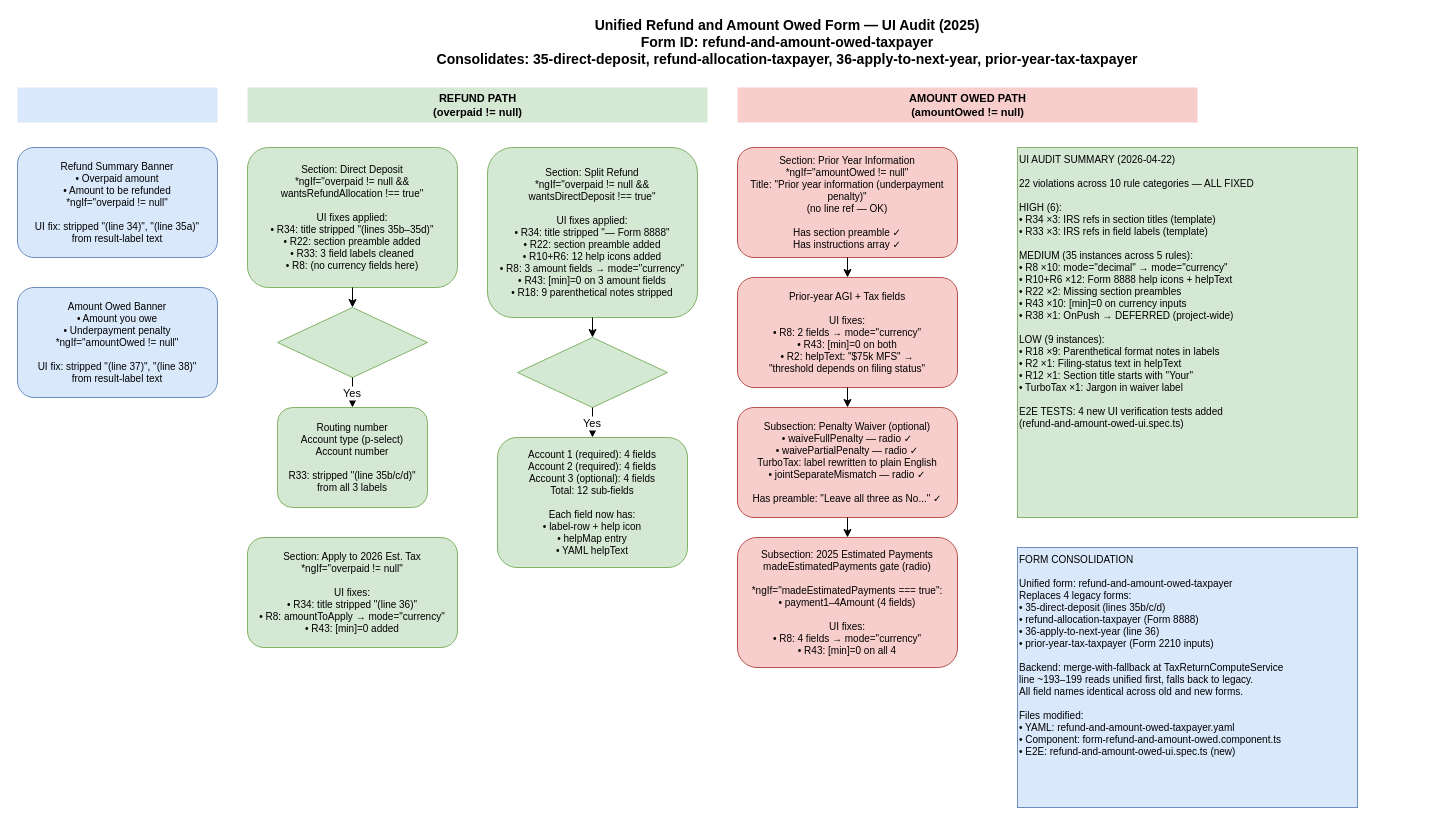
This 1455x825 diagram has some shape labels left out. Each missing label, with the centre of its shape:
COMPUTED OUTPUT (read-only banners): [117,104]
wantsDirectDeposit = true?: [352,342]
wantsRefundAllocation = true?: [592,372]
